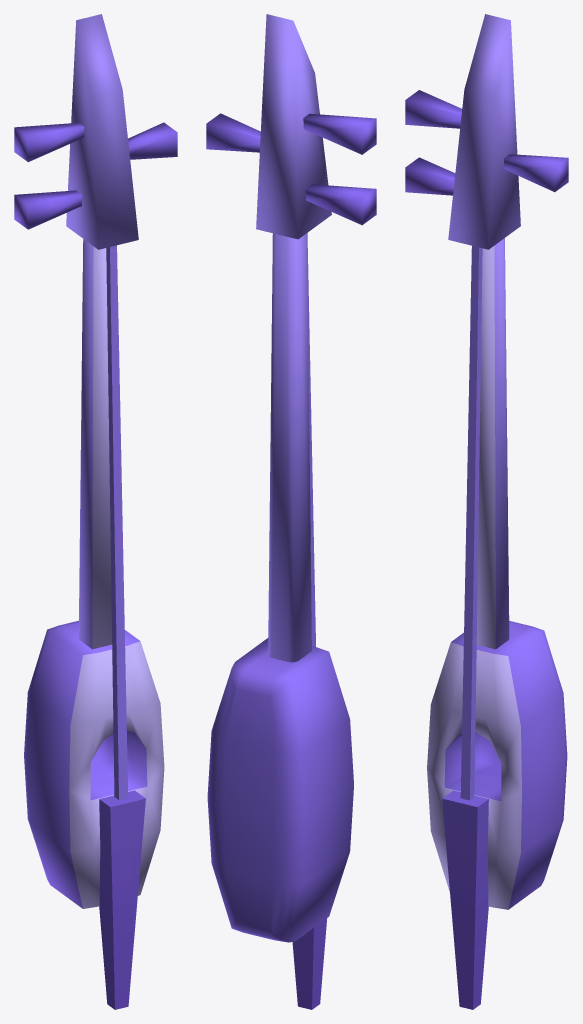
File: BoatLute.fbx
The picture shows the model from 3 angles, left to right: view 1: azimuth 30°, elevation 25°; view 2: azimuth 150°, elevation 25°; view 3: azimuth 330°, elevation 25°; orthographic projection. The views are drawn at different scales.
Visible parts, largest first — view 1: boatLute; view 2: boatLute; view 3: boatLute.
Boxes of the visible parts, box(x1,y1,x2,y2) form: boatLute: box(14, 14, 177, 1009); boatLute: box(206, 14, 376, 1009); boatLute: box(405, 14, 568, 1009).
Size of the model in its own units: 0.3579 by 2.22 by 0.2744.
1 material, 1 textured.
